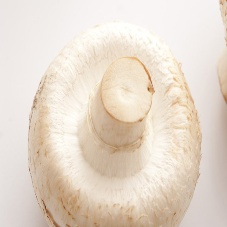mushroom: (31, 21, 206, 227)
